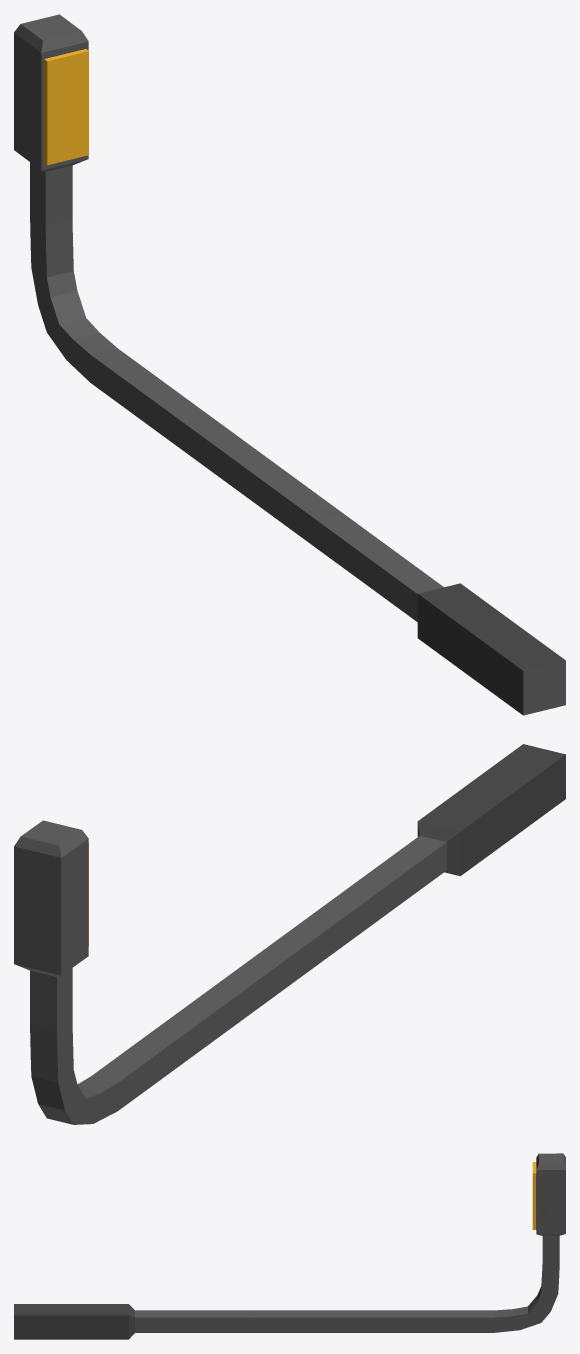
File: StreetLamp.fbx
3 renders of one model, top to bottom at view 1: azimuth 30°, elevation 25°; view 2: azimuth 150°, elevation 25°; view 3: azimuth 270°, elevation 25°, orthographic. The views are drawn at different scales.
Visible parts, largest first — view 1: Cube; view 2: Cube; view 3: Cube.
Boxes of the visible parts, x1,y1,x2,y2 form: Cube: [14, 14, 565, 715]; Cube: [14, 744, 565, 1124]; Cube: [14, 1153, 565, 1339].
Size of the model in its own units: 0.442 by 2.87 by 8.18.
